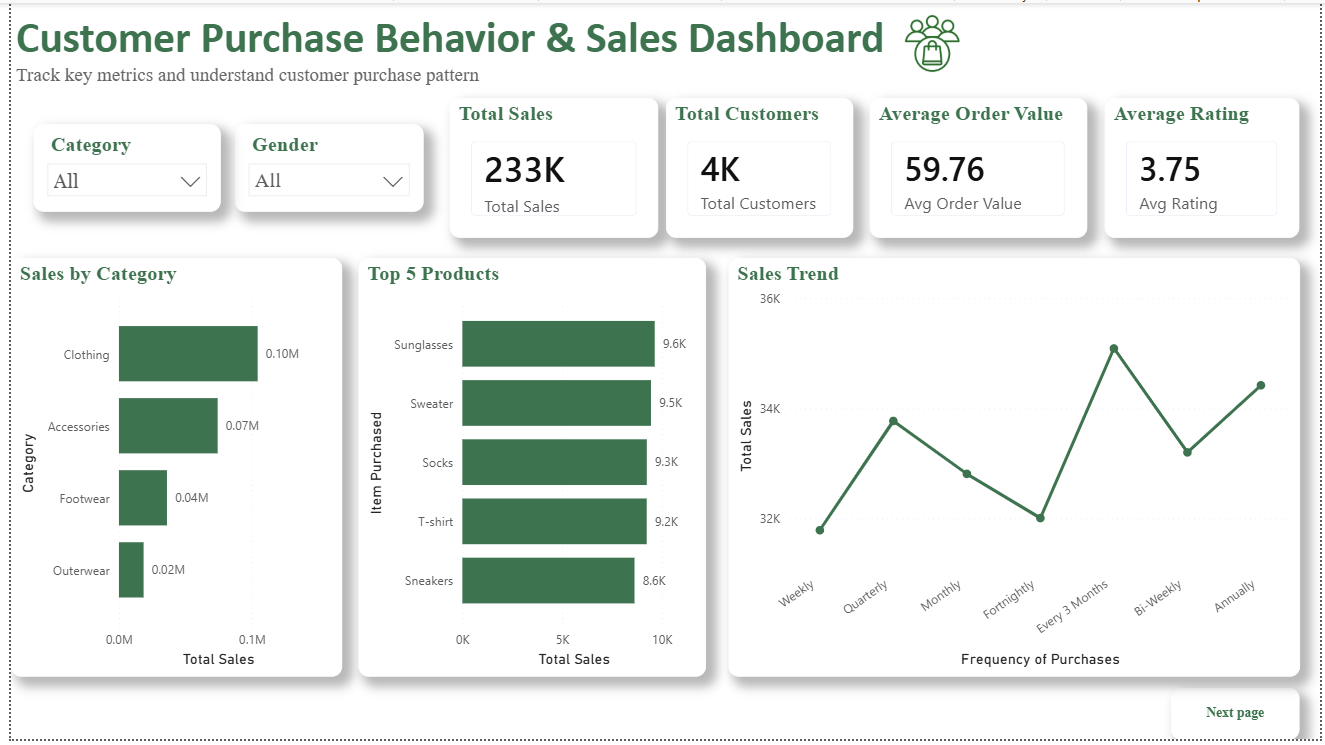

The dashboard page shown, as its layout file describes it:
{"tool":"powerbi","page":{"name":"Sales overview","canvas":[1280,720],"ordinal":0},"visuals":[{"type":"actionButton","box":[1134.8,670.1,126,50.1],"z":0},{"type":"textbox","box":[0,2.4,1280.3,105.2],"z":1000},{"type":"slicer","fields":{"Values":["customer_shopping_behavior (1).Gender"]},"box":[218.9,118.6,184.6,85.6],"z":2000},{"type":"cardVisual","title":"Total Sales","fields":{"Data":["customer_shopping_behavior (1).Total Sales"]},"box":[429.2,92.9,204.2,137],"z":3000},{"type":"cardVisual","title":"Total Customers","fields":{"Data":["customer_shopping_behavior (1).Total Customers"]},"box":[640.8,92.9,183.4,137],"z":4000},{"type":"cardVisual","title":"Average Order Value","fields":{"Data":["customer_shopping_behavior (1).Avg Order Value"]},"box":[840.1,92.9,212.8,137],"z":5000},{"type":"cardVisual","title":"Average Rating","fields":{"Data":["customer_shopping_behavior (1).Avg Rating"]},"box":[1070,92.9,190.8,137],"z":6000},{"type":"clusteredBarChart","title":"Sales by Category","fields":{"Category":["customer_shopping_behavior (1).Category"],"Y":["customer_shopping_behavior (1).Total Sales"]},"box":[0,249.5,324.1,409.6],"z":7000},{"type":"clusteredBarChart","title":"Top 5 Products","fields":{"Category":["customer_shopping_behavior (1).Item Purchased"],"Y":["customer_shopping_behavior (1).Total Sales"]},"box":[339.9,249.5,339.9,409.6],"z":8000},{"type":"lineChart","title":"Sales Trend","fields":{"Category":["customer_shopping_behavior (1).Frequency of Purchases"],"Y":["customer_shopping_behavior (1).Total Sales"]},"box":[701.9,249.5,558.8,409.6],"z":9000},{"type":"image","box":[840.1,0,122.3,79.5],"z":11000},{"type":"slicer","fields":{"Values":["customer_shopping_behavior (1).Category"]},"box":[22,118.6,183.4,85.6],"z":12000}]}

Visuals, with their boxes in screenshot pixels (x1, y1, x2, y2), scaled from the page's 1280x720 canvas onto the 1325x745 screenshot:
actionButton: 1175/693/1305/744
textbox: 0/2/1324/111
slicer - customer_shopping_behavior (1).Gender: 227/123/418/211
"Total Sales" cardVisual: 444/96/656/238
"Total Customers" cardVisual: 663/96/853/238
"Average Order Value" cardVisual: 870/96/1090/238
"Average Rating" cardVisual: 1108/96/1305/238
"Sales by Category" clusteredBarChart: 0/258/335/682
"Top 5 Products" clusteredBarChart: 352/258/704/682
"Sales Trend" lineChart: 727/258/1305/682
image: 870/0/996/82
slicer - customer_shopping_behavior (1).Category: 23/123/213/211
